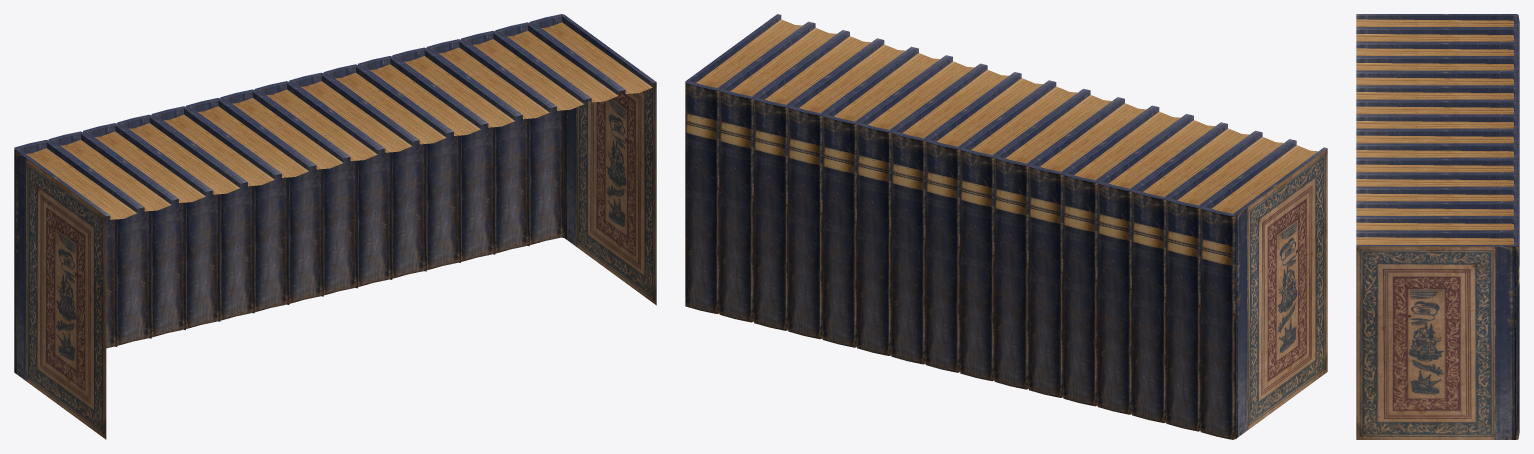
File: PROPS_booksCollection_01.FBX
3 renders of one model, left to right at view 1: azimuth 30°, elevation 25°; view 2: azimuth 150°, elevation 25°; view 3: azimuth 270°, elevation 25°, orthographic. The views are drawn at different scales.
Parts seen in each view (by area): view 1: PROPS_booksCollection_01; view 2: PROPS_booksCollection_01; view 3: PROPS_booksCollection_01.
Part boxes in pixels (x1,y1,x2,y2): PROPS_booksCollection_01: (14,14,656,439); PROPS_booksCollection_01: (685,14,1327,439); PROPS_booksCollection_01: (1356,14,1519,439).
Bounding box in the file's own units: 74.73 × 29 × 22.15.
1 material, 1 textured.
